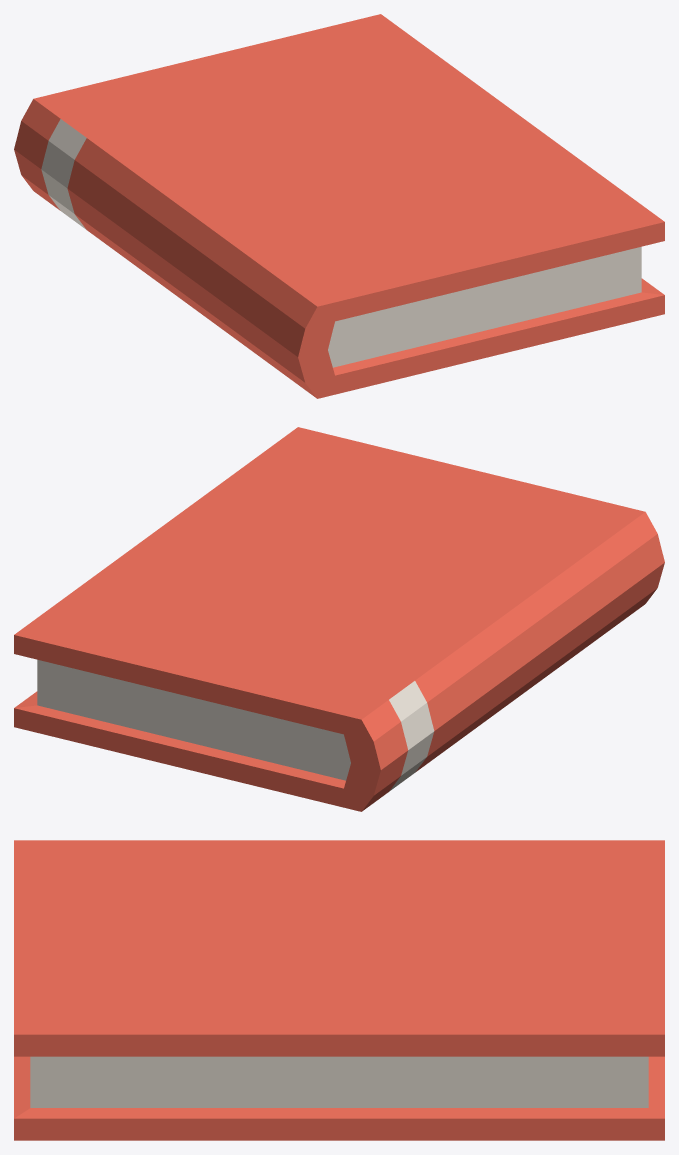
The model's file is Book1.fbx.
The picture shows the model from 3 angles, top to bottom: view 1: azimuth 30°, elevation 25°; view 2: azimuth 150°, elevation 25°; view 3: azimuth 270°, elevation 25°; orthographic projection. The views are drawn at different scales.
Parts seen in each view (by area): view 1: Book1; view 2: Book1; view 3: Book1.
Boxes of the visible parts, x1=… form: Book1: x1=14, y1=14, x2=664, y2=398; Book1: x1=14, y1=427, x2=664, y2=811; Book1: x1=14, y1=840, x2=664, y2=1140.
Bounding box in the file's own units: 31 × 7.45 × 41.57.
